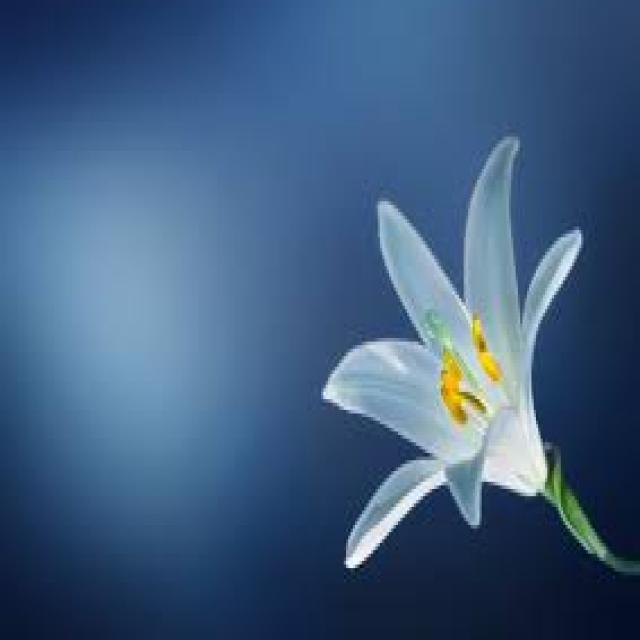lily: (323, 157, 589, 589)
